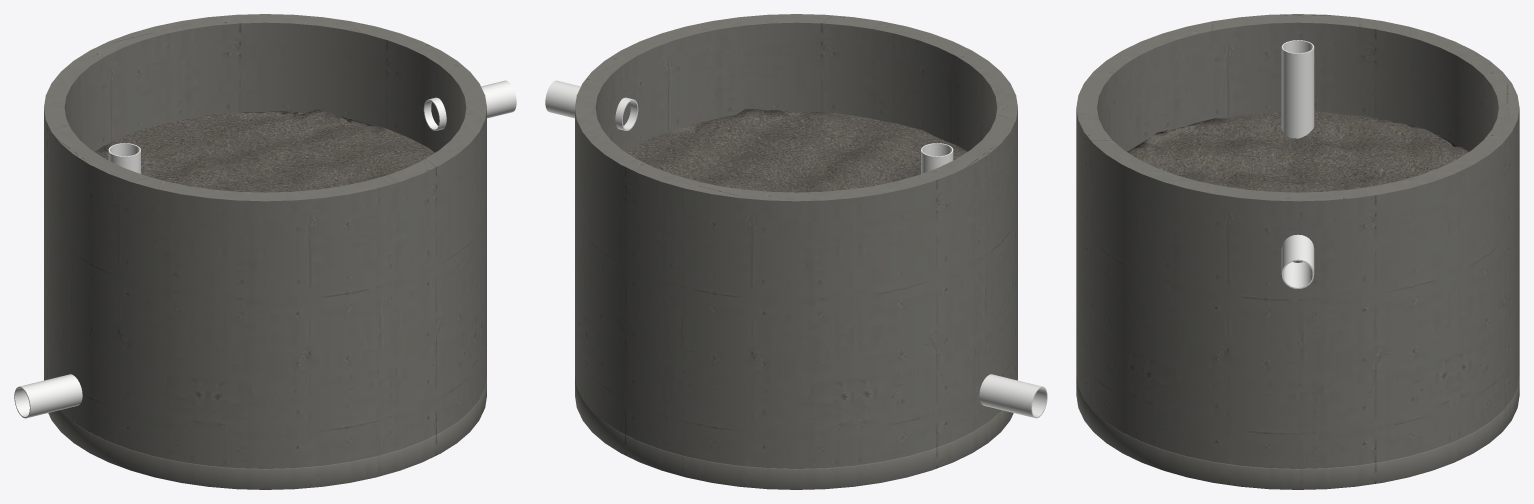
File: HID-TRT-002_lod1.glb
The picture shows the model from 3 angles, left to right: view 1: azimuth 30°, elevation 25°; view 2: azimuth 150°, elevation 25°; view 3: azimuth 270°, elevation 25°; orthographic projection.
Visible parts, largest first — view 1: HID-TRT-002_anel1, HID-TRT-002_anel0, HID-TRT-002_brita, HID-TRT-002_fundo, HID-TRT-002_ent, HID-TRT-002_sai, HID-TRT-002_tubo; view 2: HID-TRT-002_anel1, HID-TRT-002_anel0, HID-TRT-002_brita, HID-TRT-002_fundo, HID-TRT-002_ent, HID-TRT-002_sai, HID-TRT-002_tubo; view 3: HID-TRT-002_anel1, HID-TRT-002_anel0, HID-TRT-002_brita, HID-TRT-002_fundo, HID-TRT-002_tubo, HID-TRT-002_sai.
Boxes of the visible parts, x1,y1,x2,y2 form: HID-TRT-002_anel1: (44,14,486,334); HID-TRT-002_anel0: (44,243,486,468); HID-TRT-002_brita: (95,109,434,192); HID-TRT-002_fundo: (44,377,486,489); HID-TRT-002_ent: (14,374,82,418); HID-TRT-002_sai: (423,80,516,130); HID-TRT-002_tubo: (108,143,140,173); HID-TRT-002_anel1: (575,14,1017,334); HID-TRT-002_anel0: (575,243,1017,468); HID-TRT-002_brita: (627,108,967,192); HID-TRT-002_fundo: (575,377,1017,489); HID-TRT-002_ent: (979,374,1047,418); HID-TRT-002_sai: (545,80,638,130); HID-TRT-002_tubo: (921,143,953,173); HID-TRT-002_anel1: (1076,14,1519,334); HID-TRT-002_anel0: (1076,242,1519,468); HID-TRT-002_brita: (1127,111,1468,192); HID-TRT-002_fundo: (1076,376,1519,489); HID-TRT-002_tubo: (1281,40,1314,138); HID-TRT-002_sai: (1281,234,1314,288).
Bounding box in the file's own units: 1.9 × 1.08 × 1.5.
Materials: 3 (2 with a texture image).
